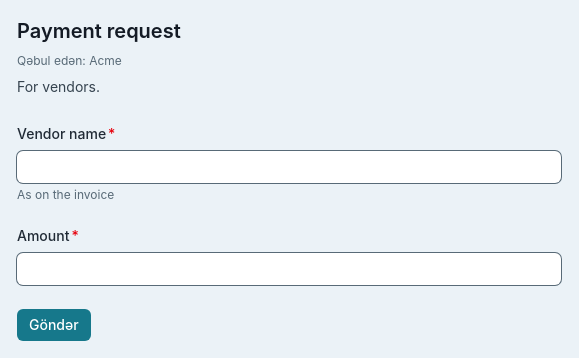
Test: FormPage › confirms with the item key
The image size is (579, 358).
Type "Vendor-A" into the field labelled "Vendor name*".
click(289, 167); type("Vendor-A")  # box 17,151 -> 561,183
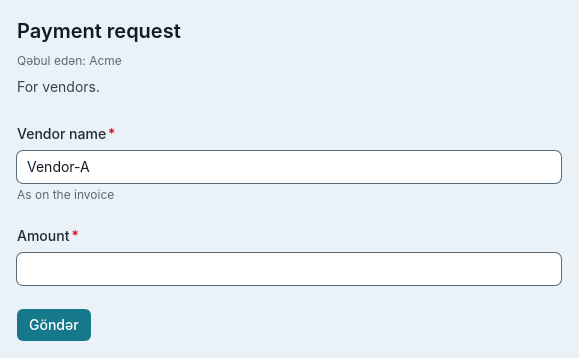
Type "120,50" into the field labelled "Amount*".
click(289, 269); type("120,50")  # box 17,253 -> 561,285
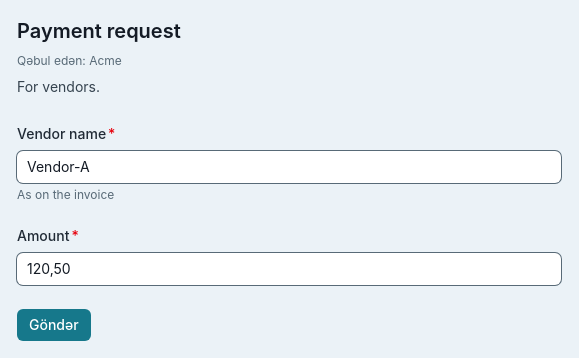
Click the button "Göndər".
click(54, 325)  # box 17,309 -> 91,341
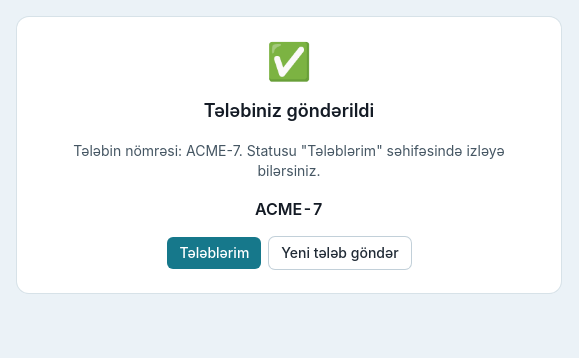
Result: the text with test id "submission-key" reads "ACME-7" at 255,199 -> 323,219
